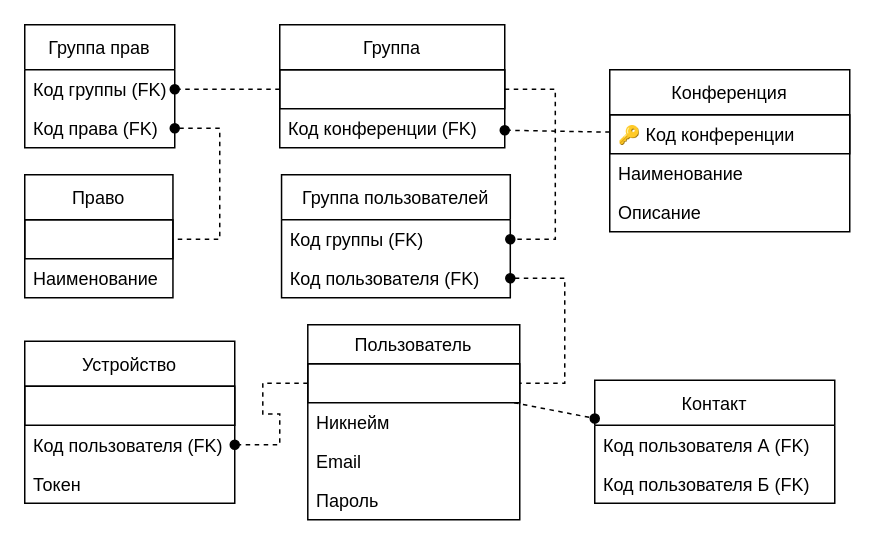
The diagram is 875 pixels wide and 545 high, and some of its shapes have lost their labels. The shapes that lost their labels are listed below. From the top down, each one's centre as x and y in pixels, then its label:
(x=391, y=88): 🔑 Код группы
(x=98, y=238): 🔑 Код права
(x=413, y=382): 🔑 Код пользователя
(x=129, y=405): 🔑 Код устройства
